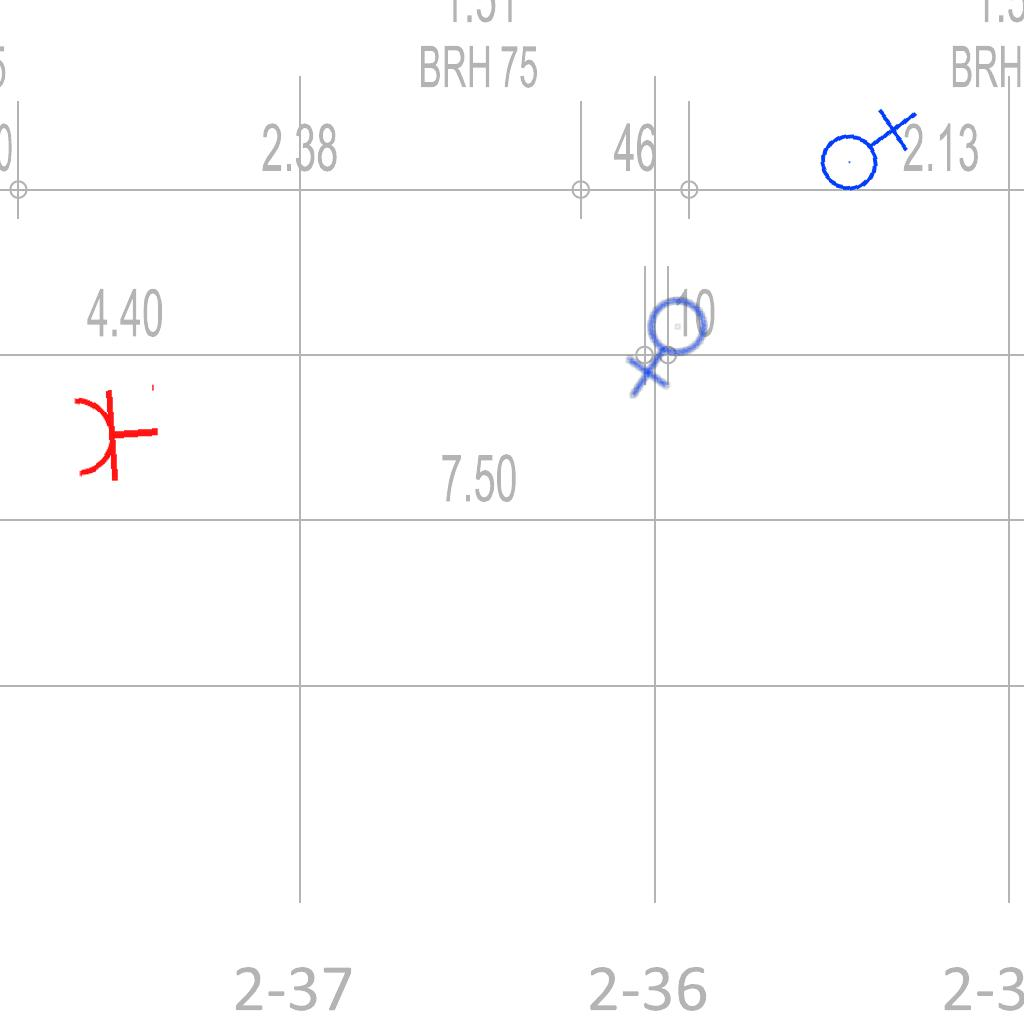Elektroanschluss_allgemein_230V_Geraeteanschlussdose_230V: (610, 289, 729, 403), (807, 93, 920, 201)
Schukosteckdose_einfach: (69, 380, 164, 486)
